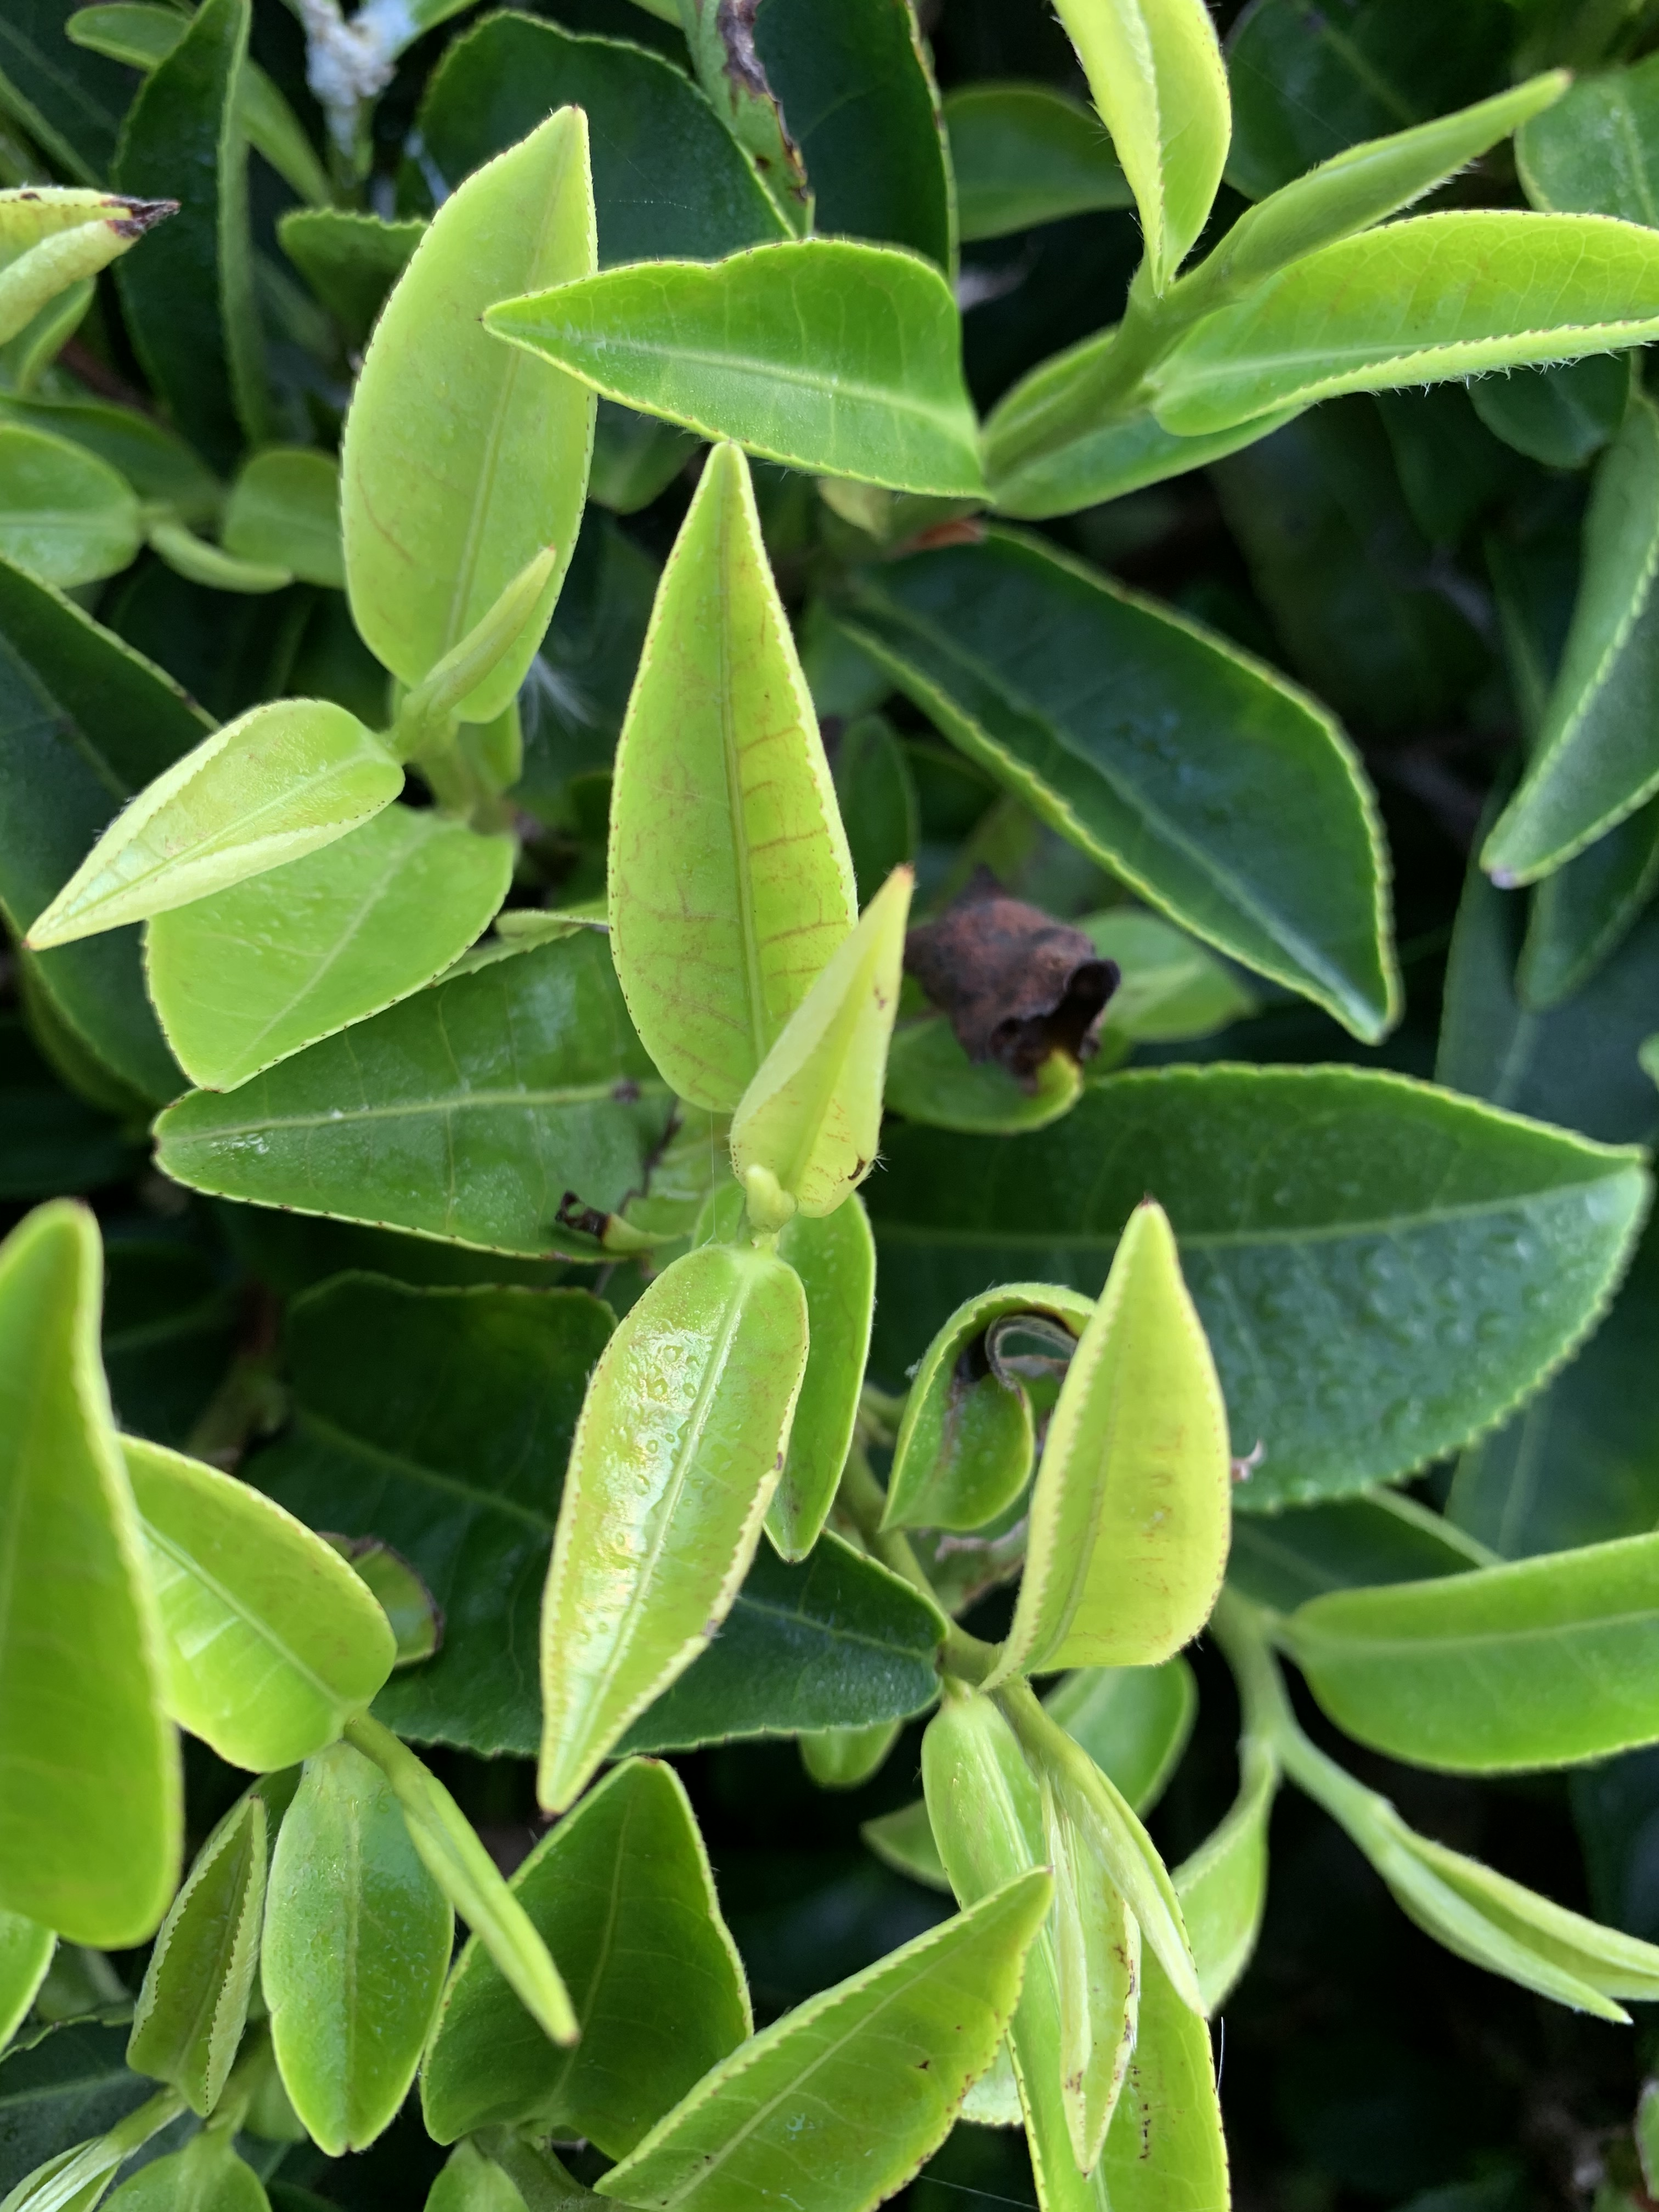formosa: (596, 413, 875, 1136), (532, 1233, 823, 1796), (1032, 1197, 1239, 1676), (38, 685, 403, 954), (751, 860, 899, 1235)
mosquito_late: (692, 12, 814, 226)
thrips: (528, 1237, 810, 1808)
